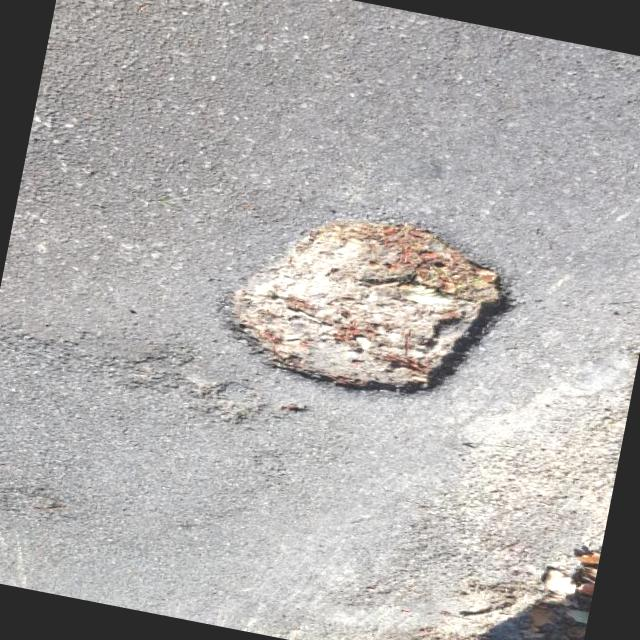pothole: (202, 187, 530, 425)
